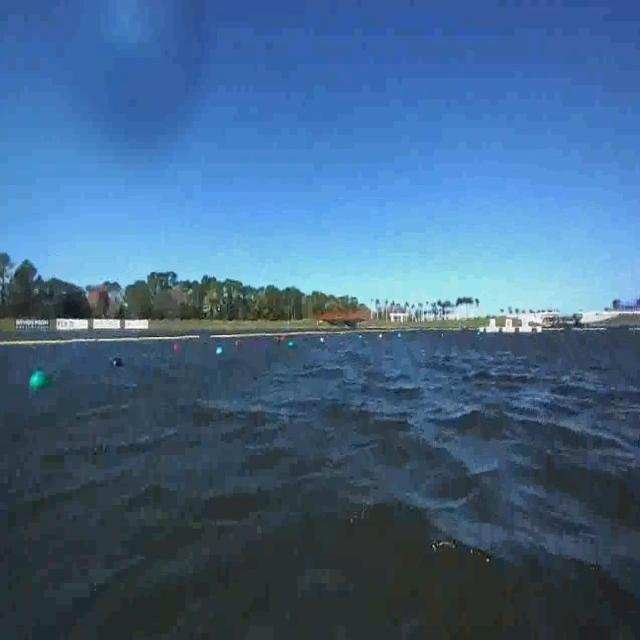green-buoy: (29, 371, 45, 389), (288, 342, 296, 350), (217, 346, 223, 356)
